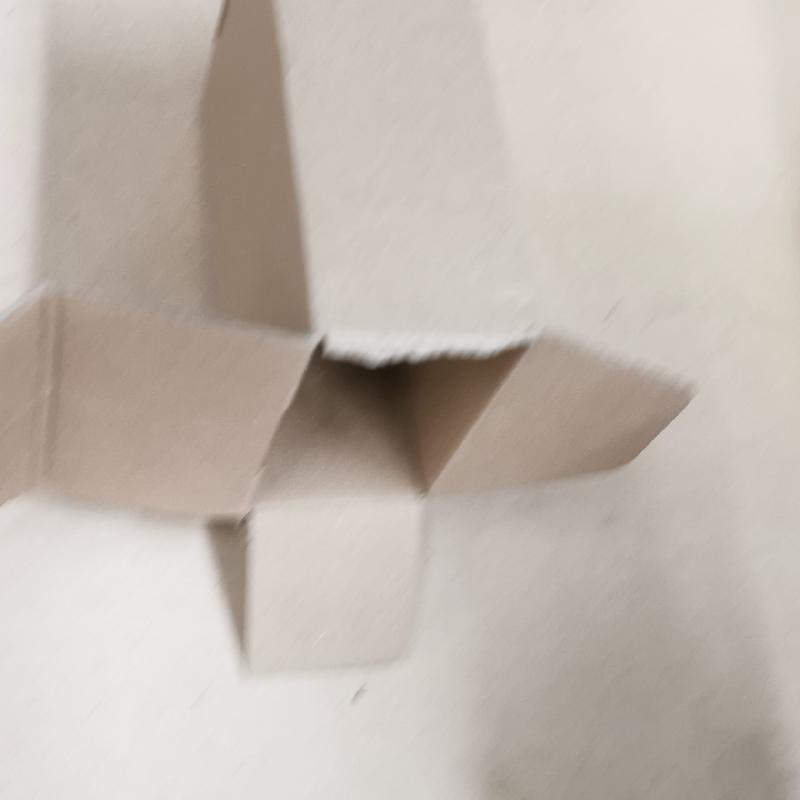boxes: (4, 6, 698, 690)
